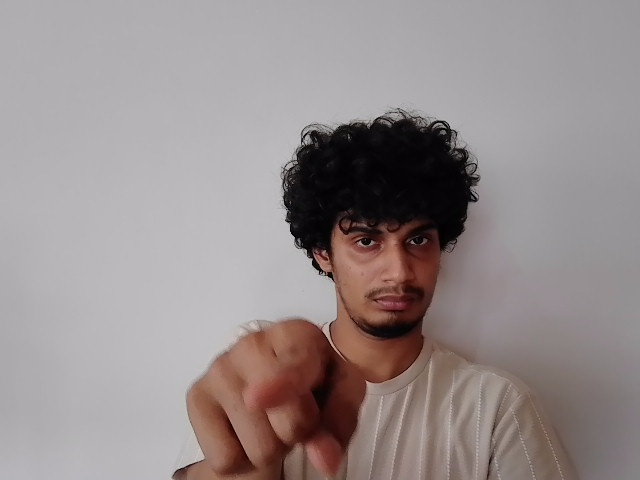you: (182, 315, 368, 472)
